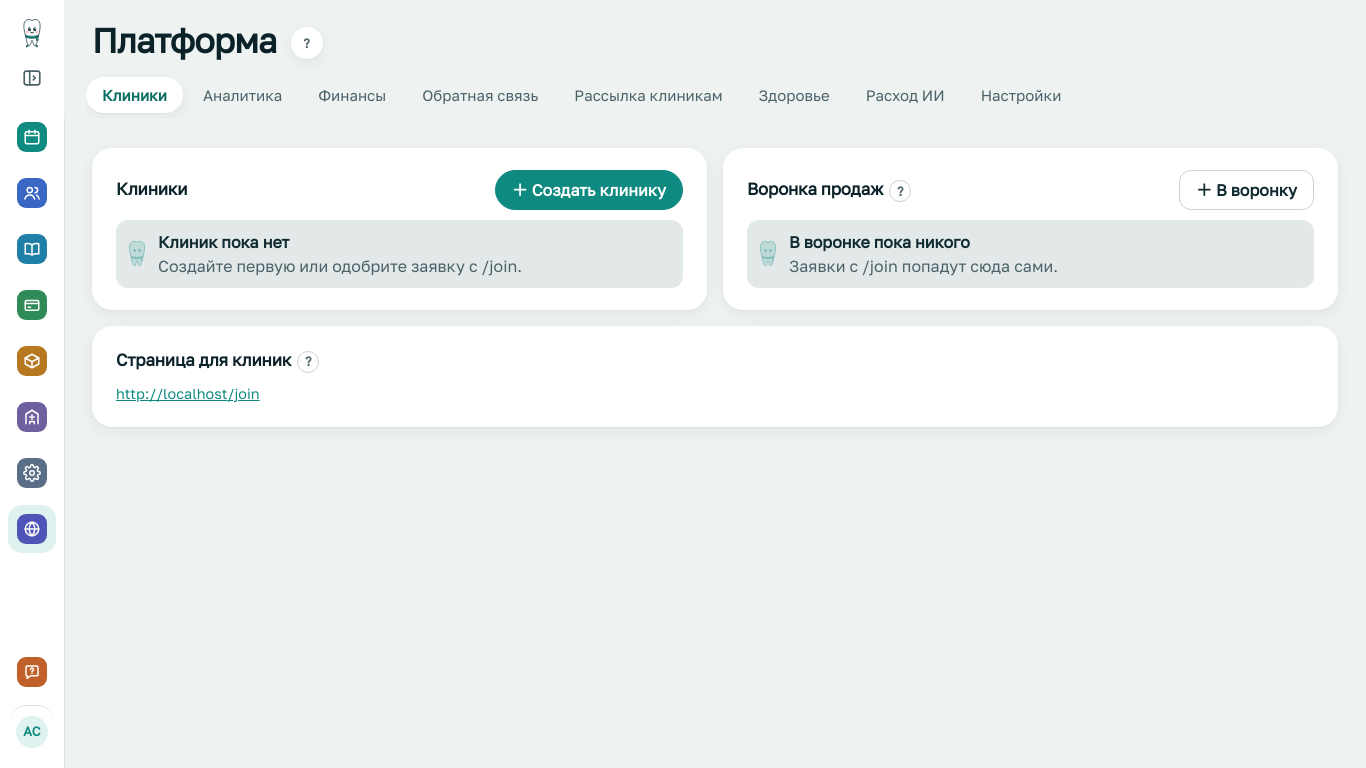
Test case: пилоты: «Платят 0» и MRR 0, будущие деньги — «после пилота»; приёмов раньше не было; кому звонить — одной строкой; город один — без выбора
Check: the navigation bar named "Разделы" is shown, box x1=8 y1=113 x2=56 y2=553
Click the link "Аналитика": {"x": 242, "y": 95} x1=203 y1=86 x2=282 y2=104
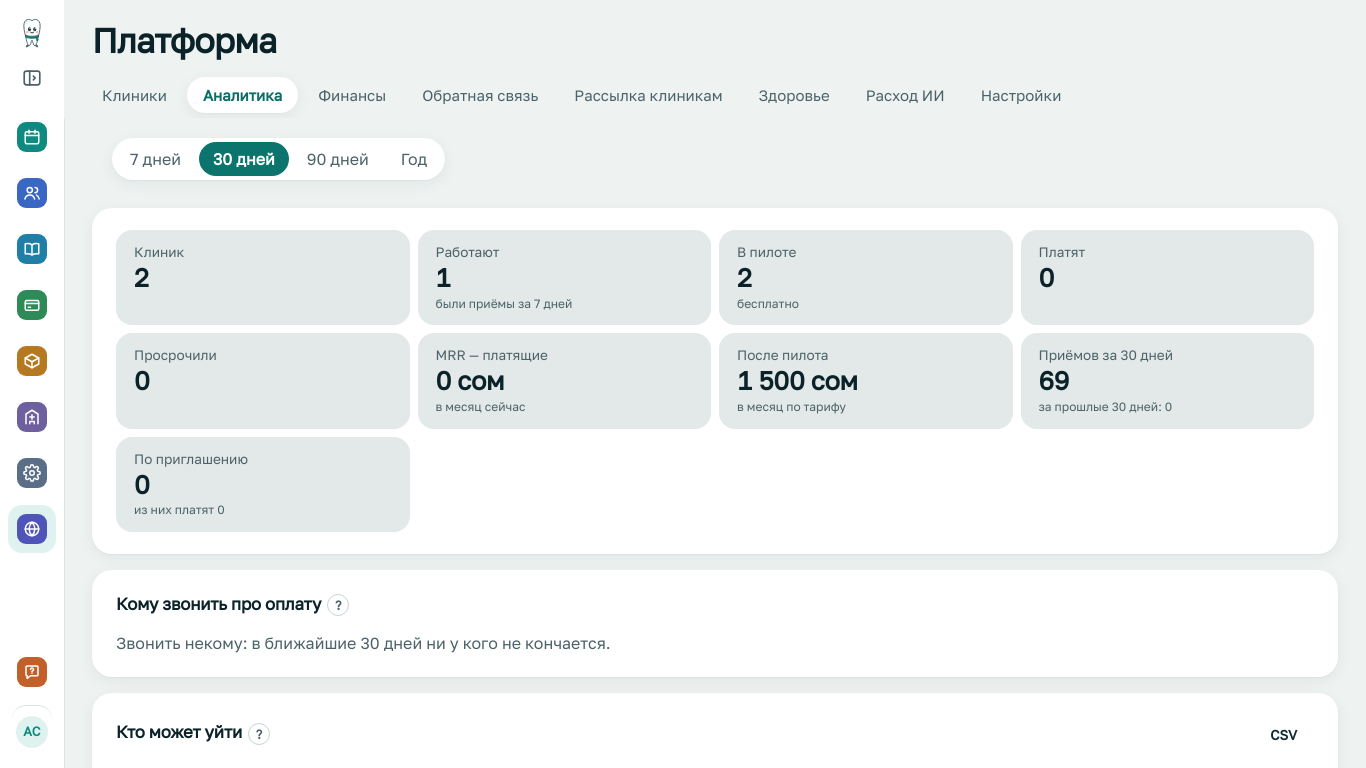
Check: the list item "Платят 0" is shown, box x1=1020 y1=230 x2=1314 y2=325
Check: the list item "Приёмов за 30 дней 69 за прошлые 30 дней: 0" is shown, box x1=1020 y1=333 x2=1314 y2=429
Check: the text "Звонить некому: в ближайшие 30 дней ни у кого не кончается." is shown once, box x1=116 y1=633 x2=611 y2=653
Click the button named "Подсказка: Кому звонить про оплату": {"x": 338, "y": 605} x1=327 y1=594 x2=349 y2=616
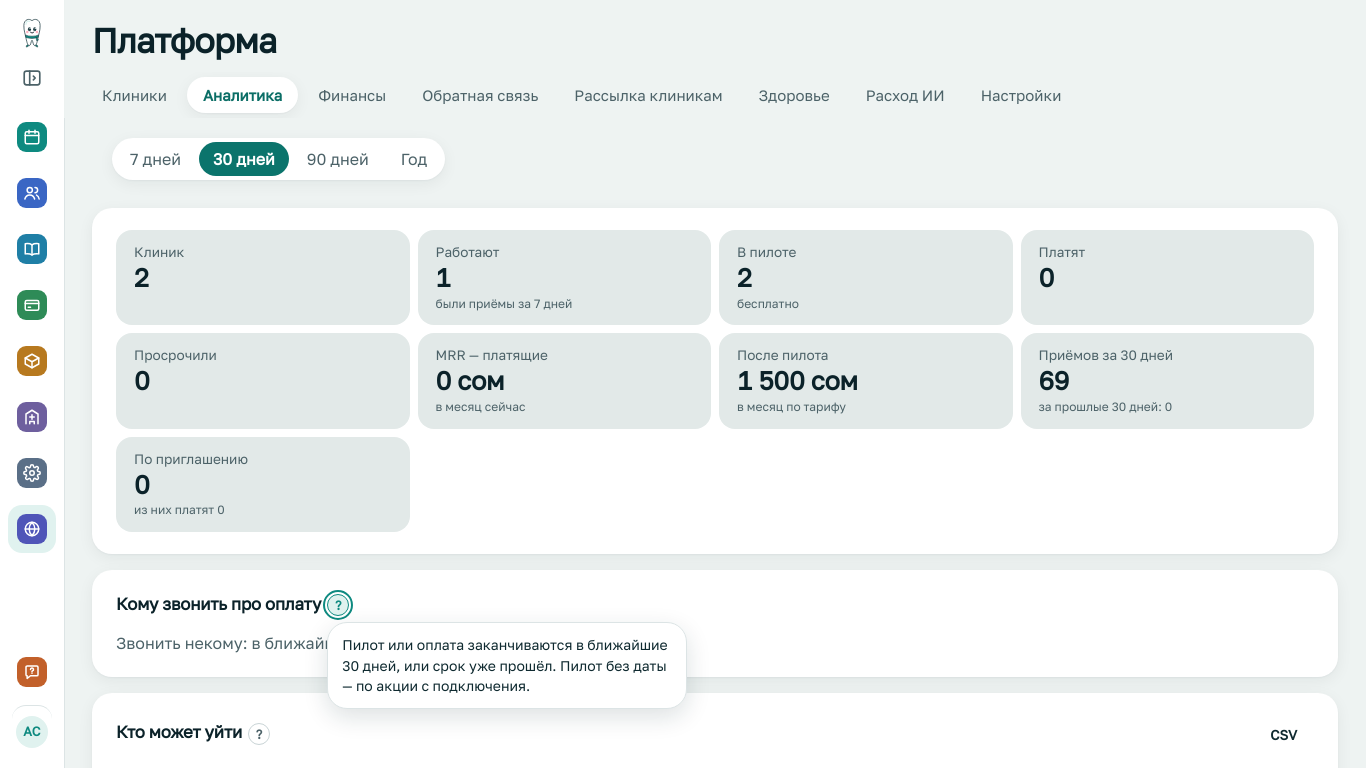
Check: the element named "Подсказка: Кому звонить про оплату" shows "Пилот без даты — по акции с подключения", box x1=342 y1=636 x2=668 y2=694
